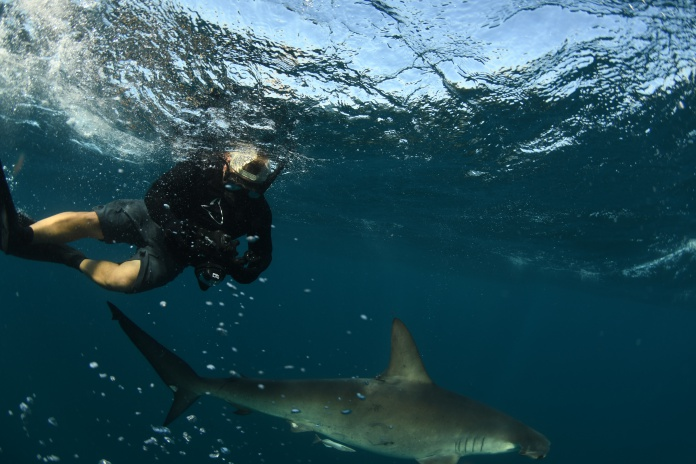Hammer: (88, 284, 549, 464)
